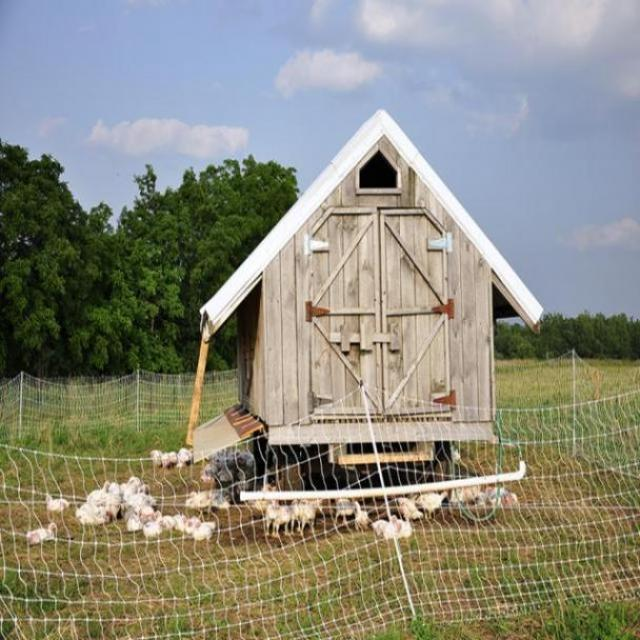Chicken: (73, 474, 223, 553), (240, 480, 327, 546), (447, 482, 520, 514), (365, 512, 419, 548), (144, 441, 194, 474), (412, 485, 450, 523), (323, 487, 352, 535), (389, 493, 425, 525), (41, 488, 71, 524), (27, 519, 56, 542), (351, 496, 367, 536)
